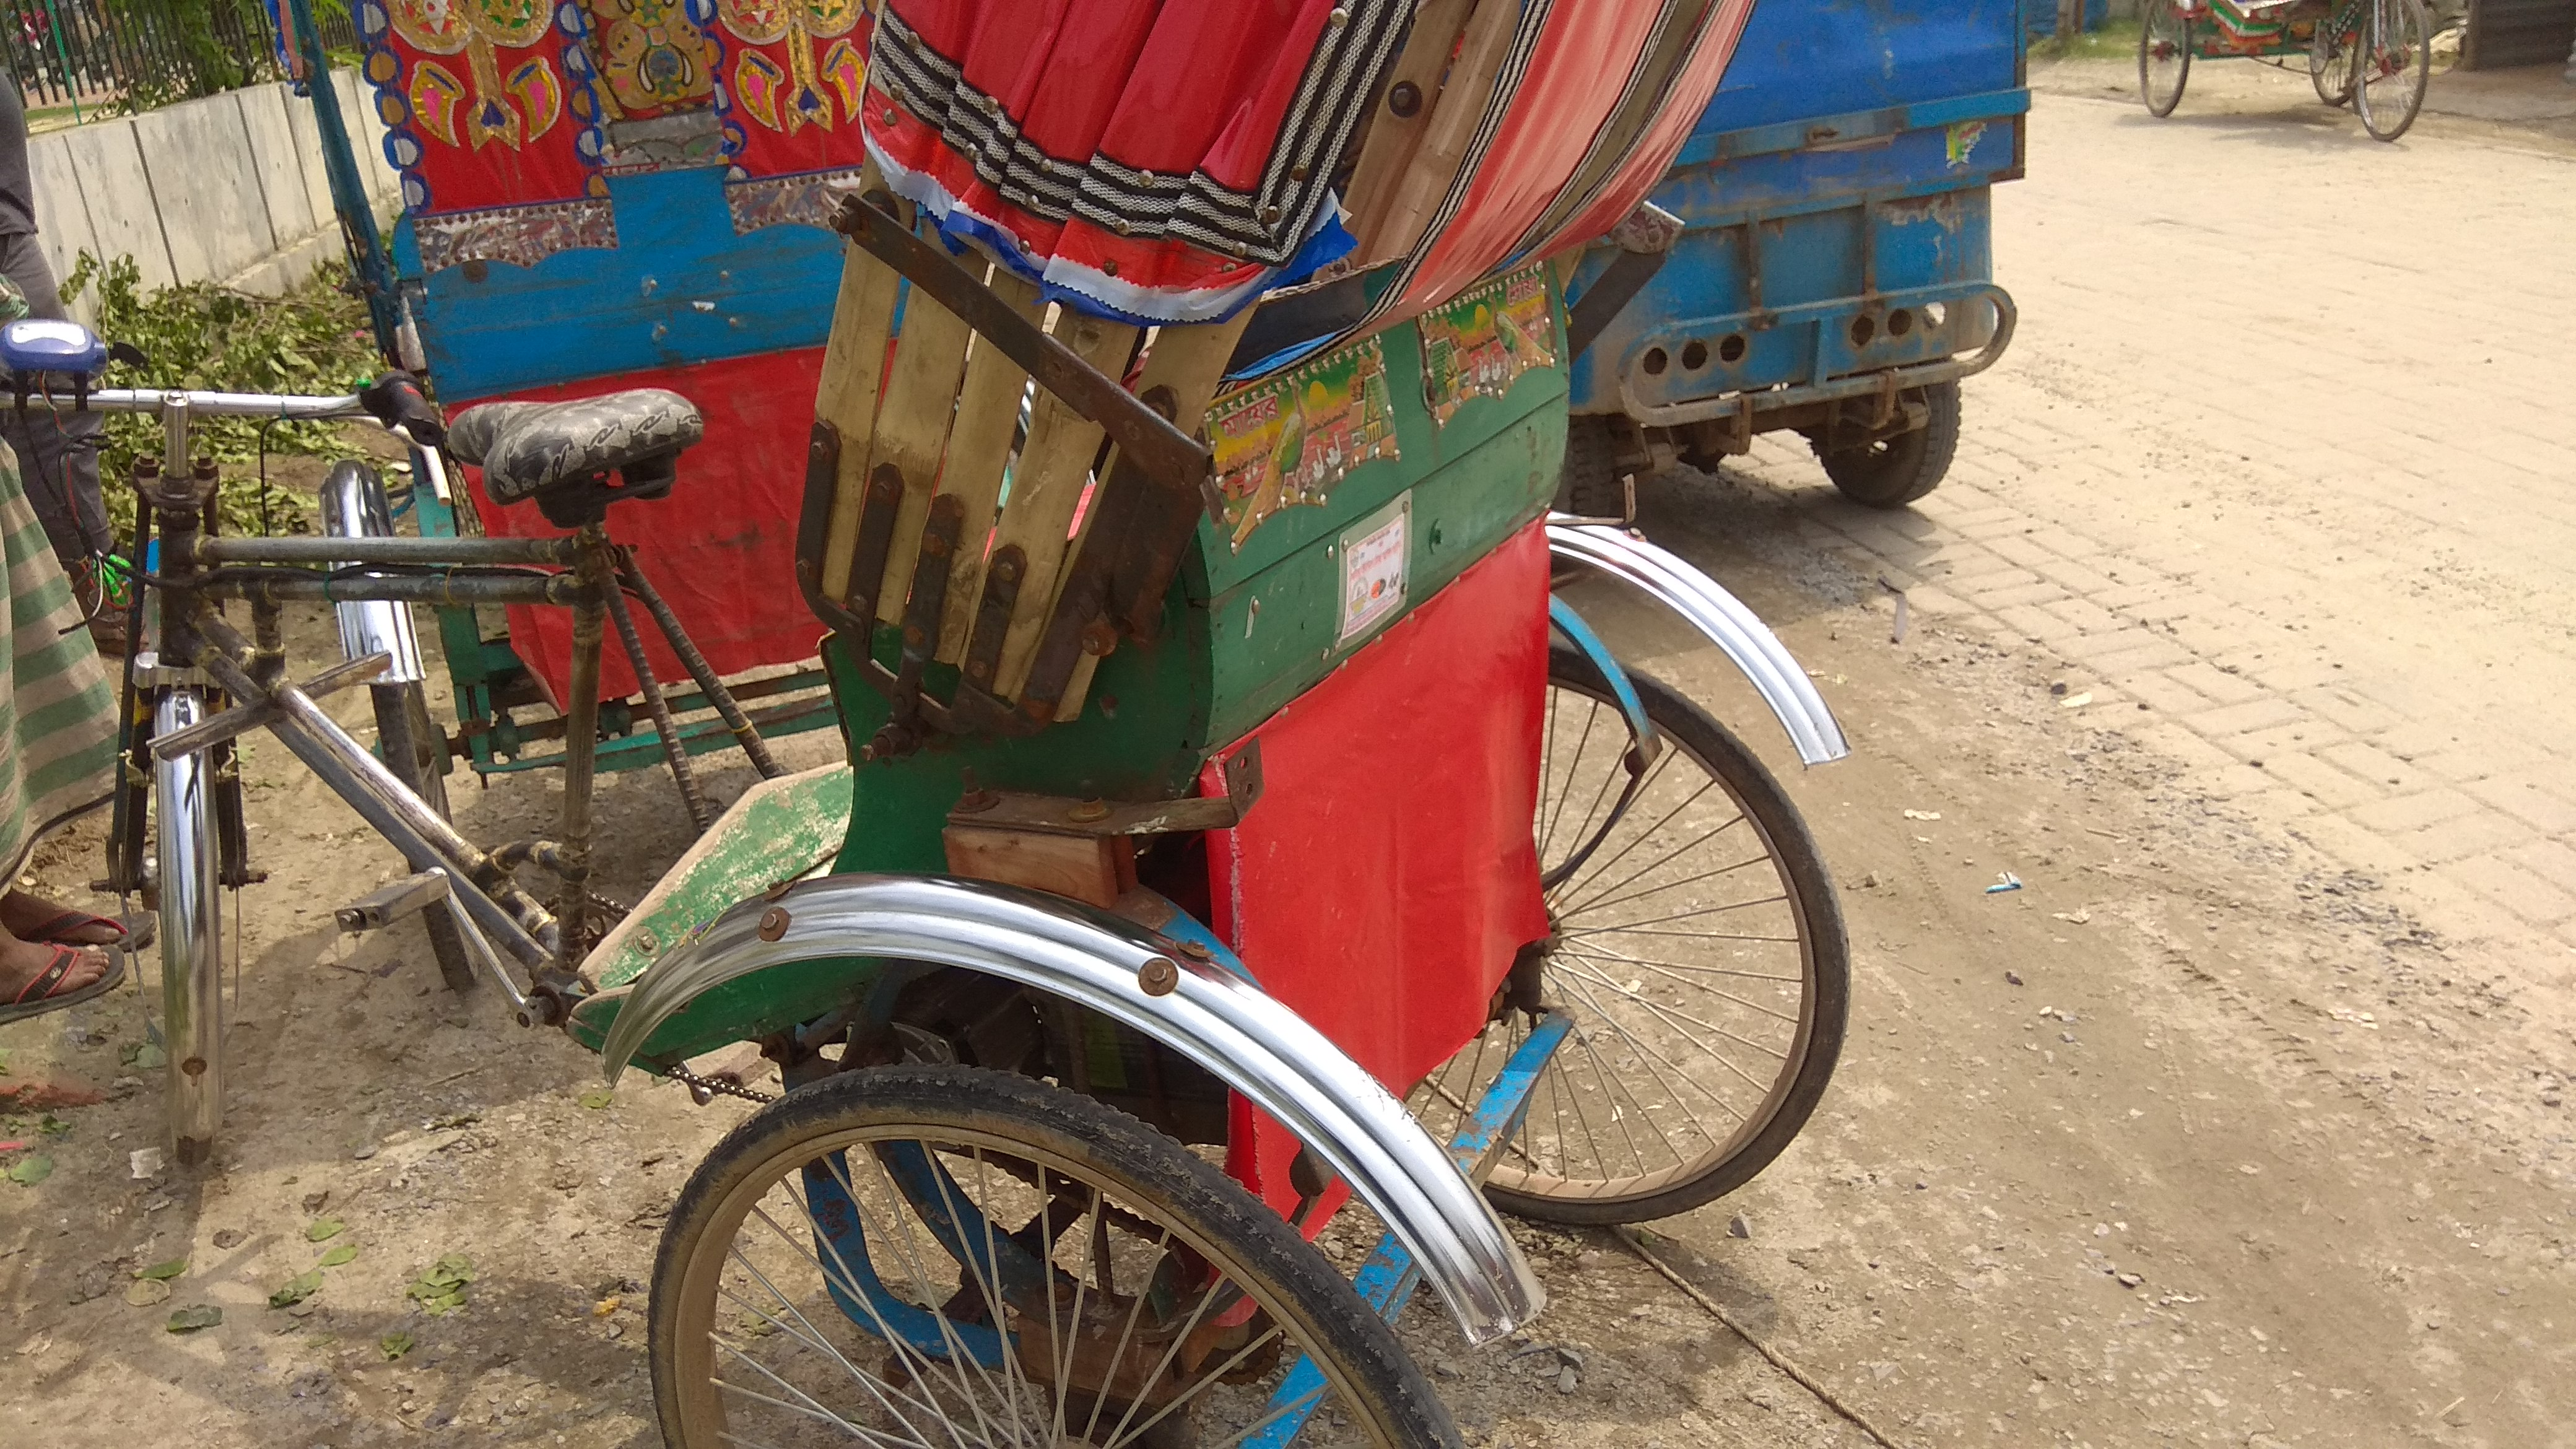Rickshaw: (81, 7, 1874, 1447), (257, 4, 911, 768)
